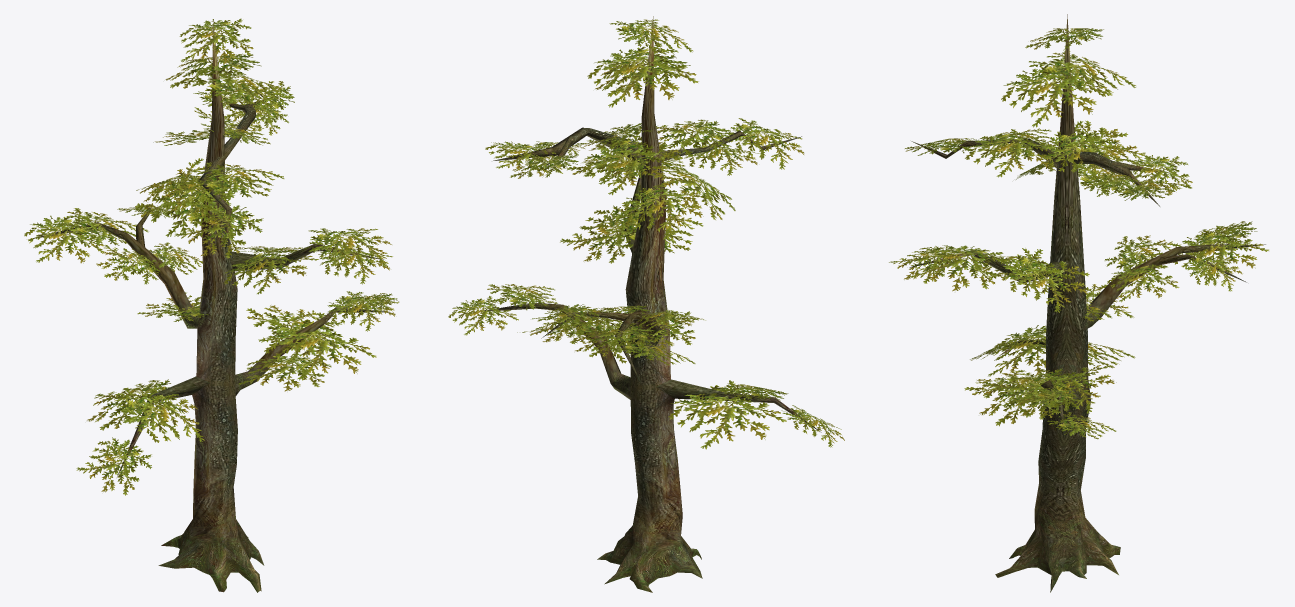
Rendered from S_Tree_Green028.FBX.
The picture shows the model from 3 angles, left to right: view 1: azimuth 30°, elevation 25°; view 2: azimuth 150°, elevation 25°; view 3: azimuth 270°, elevation 25°; orthographic projection. The views are drawn at different scales.
Visible parts, largest first — view 1: S_Tree_Green028; view 2: S_Tree_Green028; view 3: S_Tree_Green028.
Part boxes in pixels (x1,y1,x2,y2): S_Tree_Green028: (24, 18, 399, 592); S_Tree_Green028: (448, 16, 844, 592); S_Tree_Green028: (889, 14, 1268, 592).
Size of the model in its own units: 855 by 813 by 1238.
